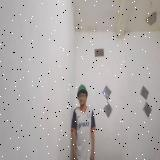Helmet: (77, 84, 87, 97)
